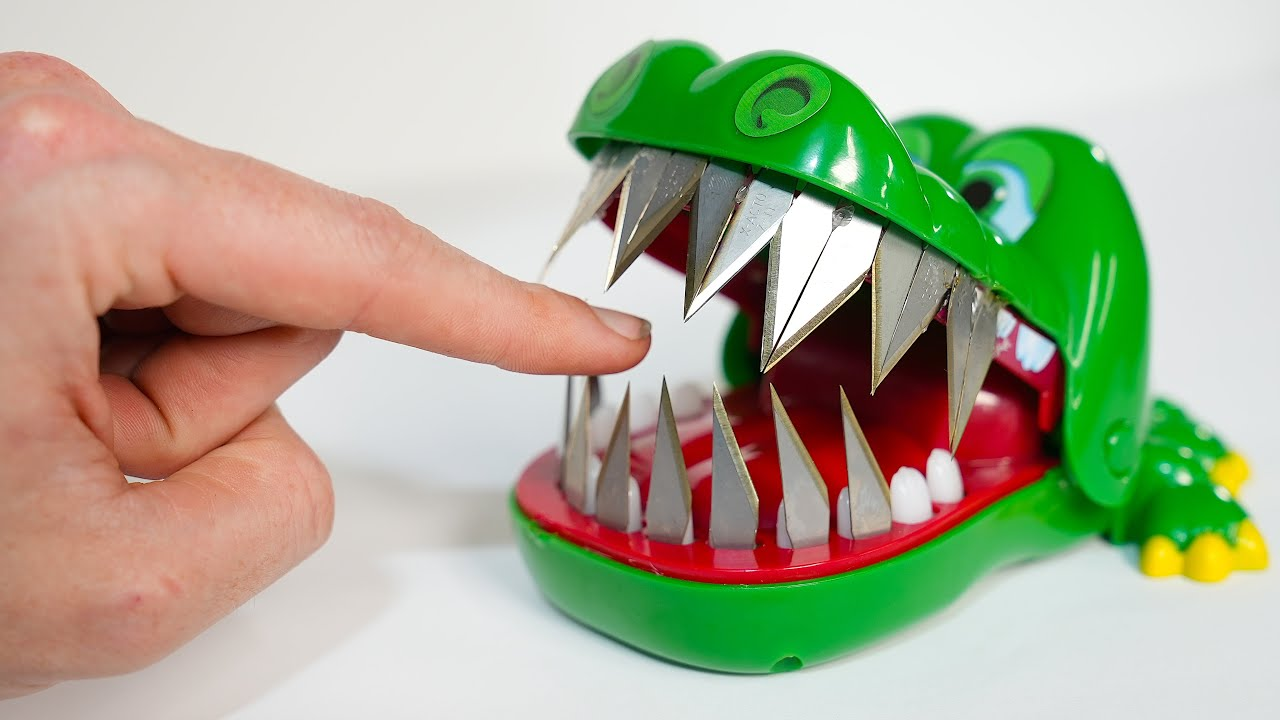toy: (470, 49, 1242, 670)
